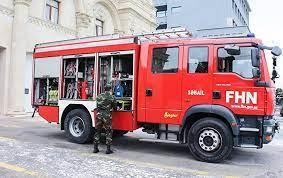Fire-engine: (27, 33, 283, 153)
